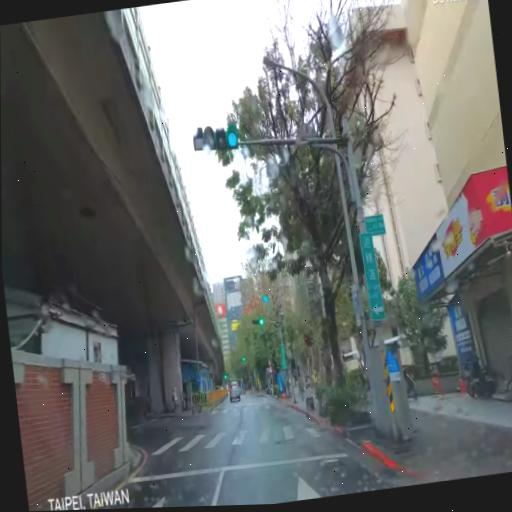Car: (228, 382, 242, 403)
